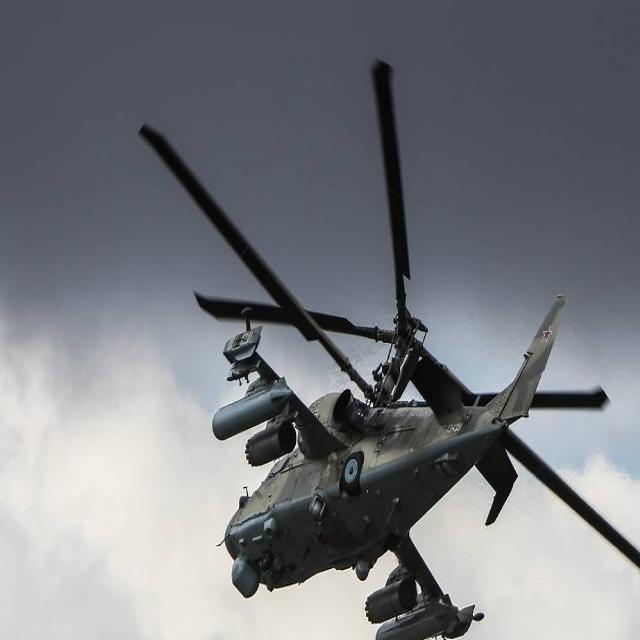helicopter: (109, 49, 640, 640)
